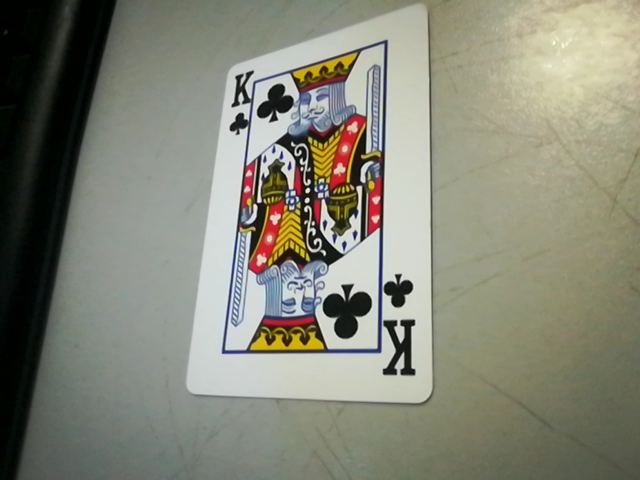mh k: (374, 269, 431, 390), (220, 64, 263, 129)
